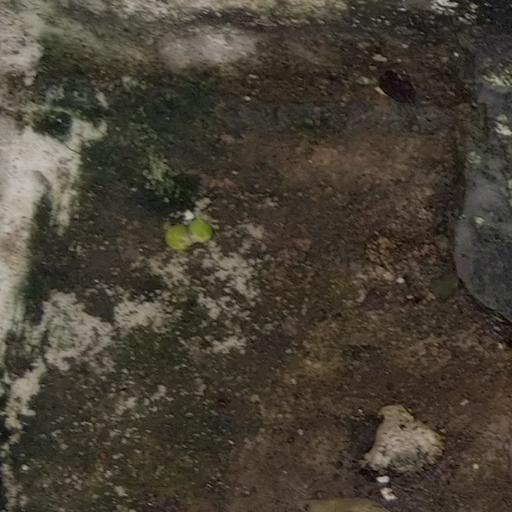algae: (29, 18, 512, 512)
